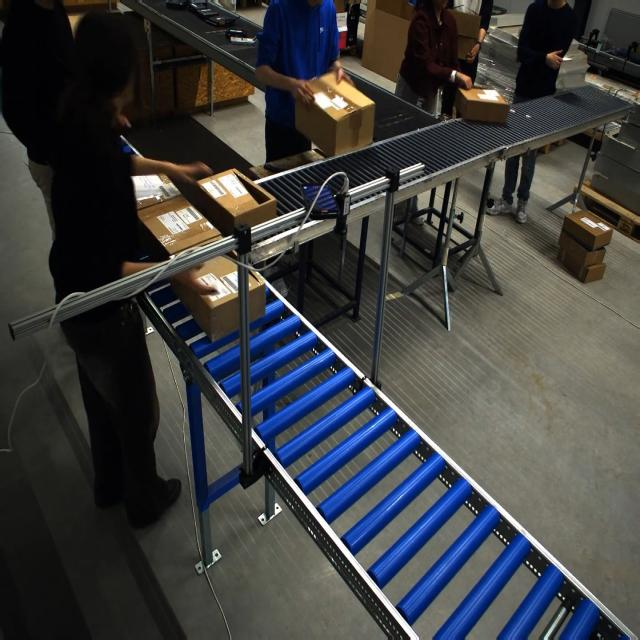box: (169, 255, 266, 343), (135, 177, 222, 261), (190, 168, 278, 237), (298, 72, 368, 157), (453, 86, 511, 124), (447, 9, 481, 61)
product: (204, 15, 236, 27), (166, 0, 191, 10), (188, 1, 210, 11), (230, 36, 257, 44), (227, 28, 246, 38)
